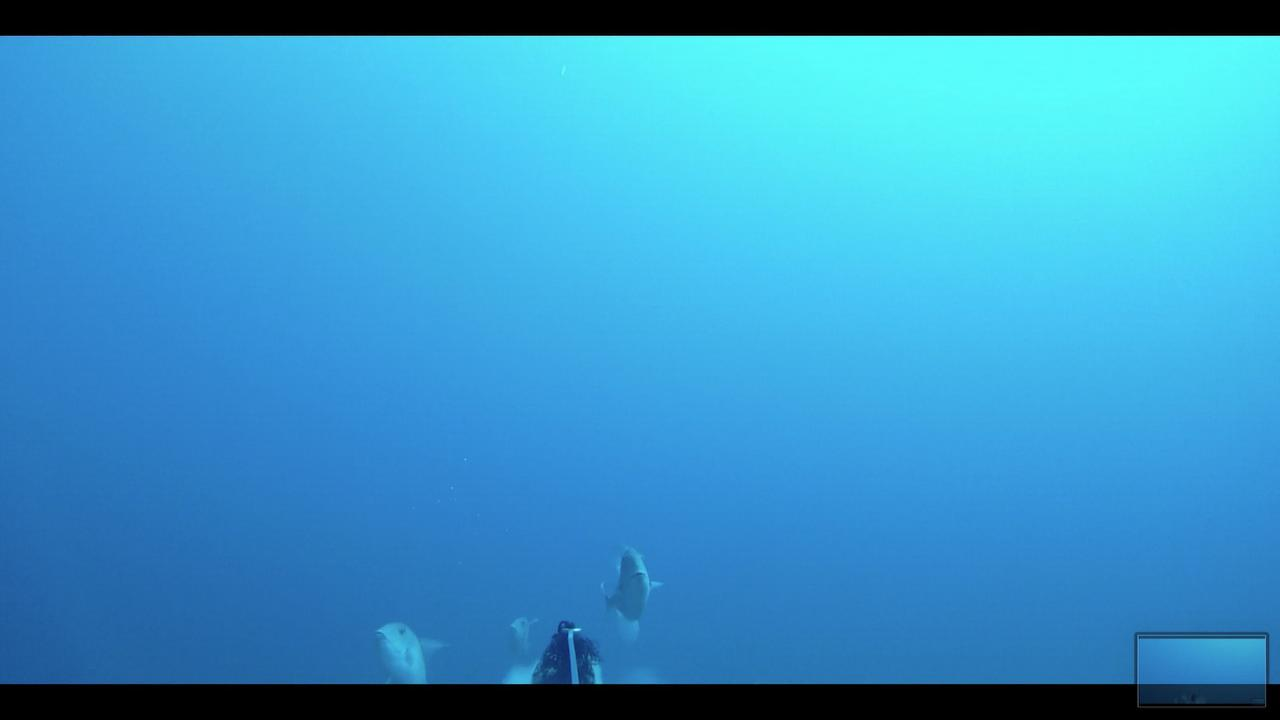balistes: (587, 536, 667, 636), (360, 611, 458, 683)
